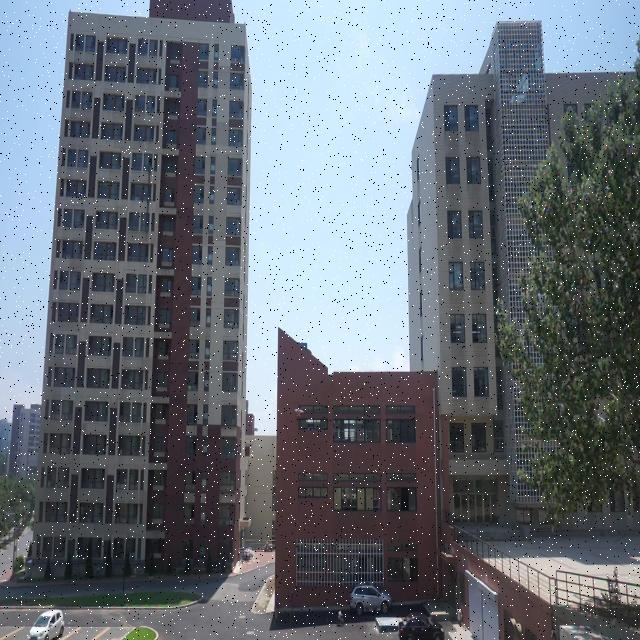UAV: (294, 409, 304, 416)
